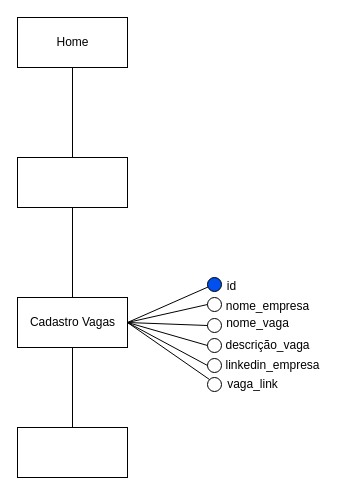
The diagram is 345 pixels wide and 495 high, and some of its shapes have lost their labels. Here are the shapes that lost their labels. From the top down, the centre of each, then its label:
At pixel 72 182: "Vagas".
At pixel 72 452: "Contatos".
